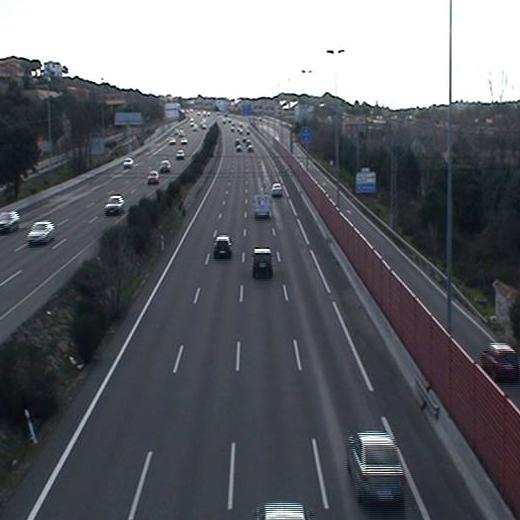car: (348, 432, 404, 507), (253, 248, 271, 275), (214, 235, 231, 259), (271, 182, 284, 198)
small-truck: (253, 192, 271, 219)
